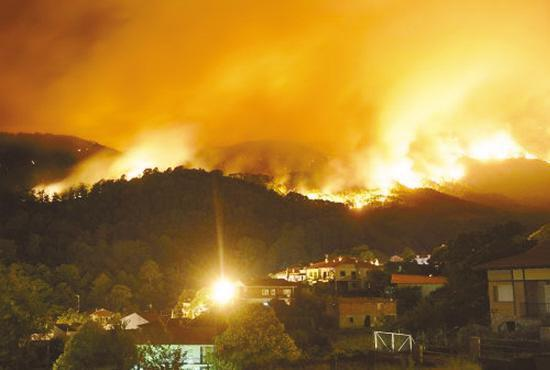fire: (319, 132, 539, 205)
